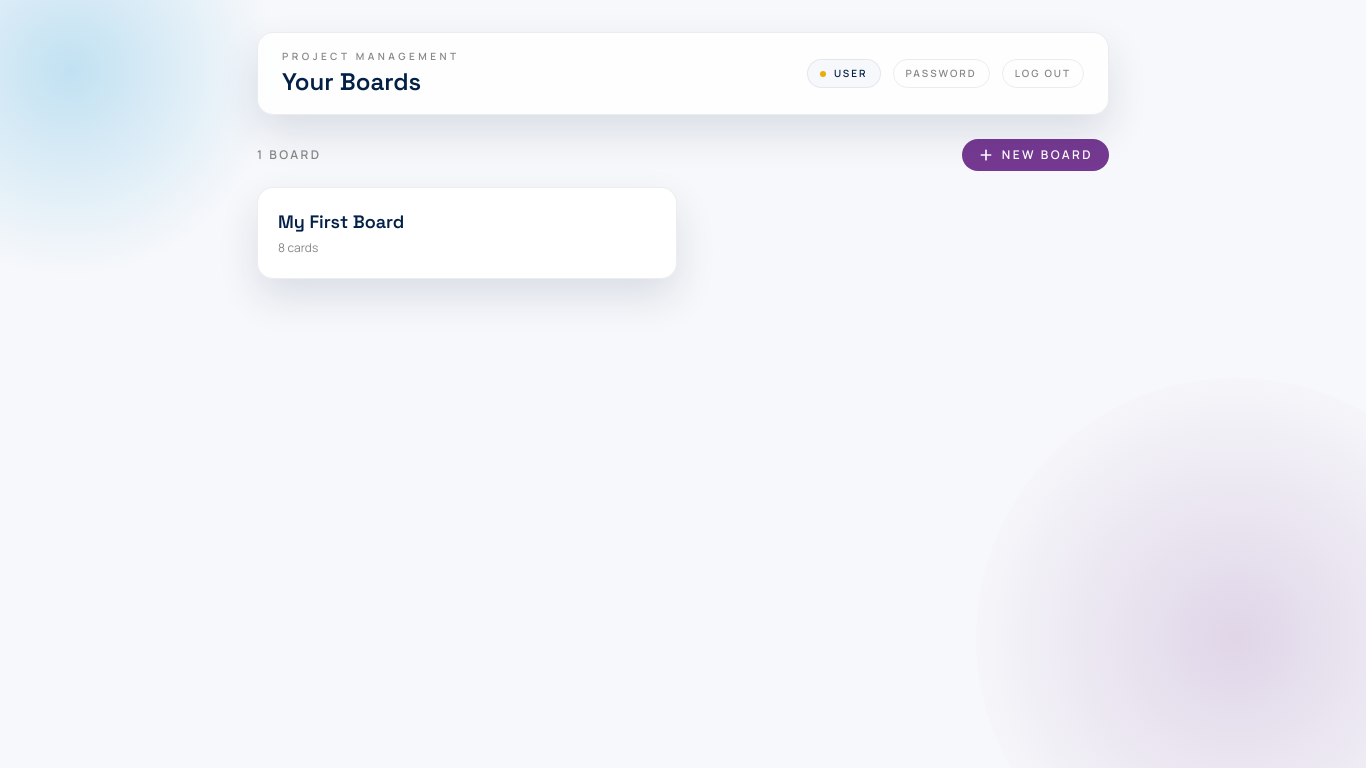
Test case: BoardSelector › changes password successfully
Expected: the list with test id "boards-list" is shown, [257,187,677,279]
Click the button with test id "change-password-button" at (941, 74), box [892,59,990,88]
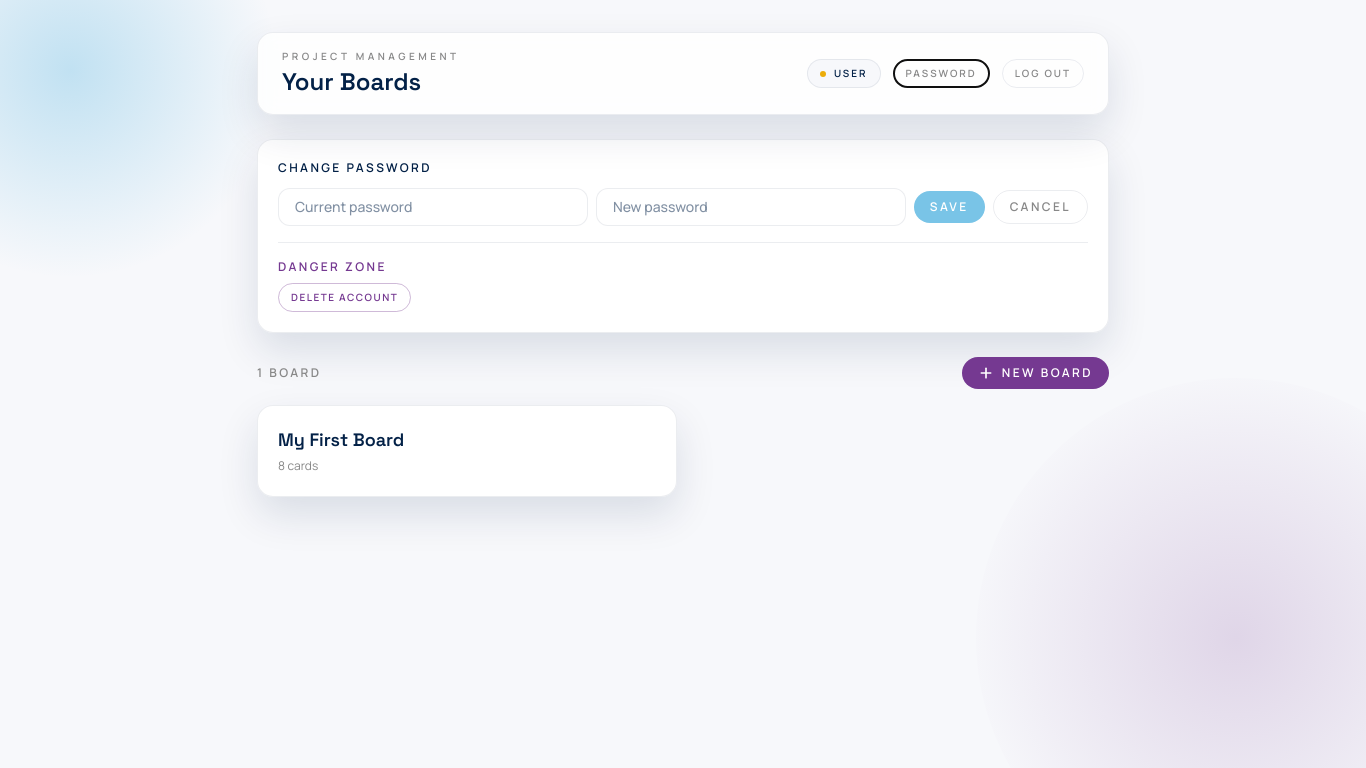
Now the element with test id "password-form" is shown, box [257,139,1109,333]
Type "password" into the password field with test id "current-password-input" at (433, 207), box [278,188,588,226]
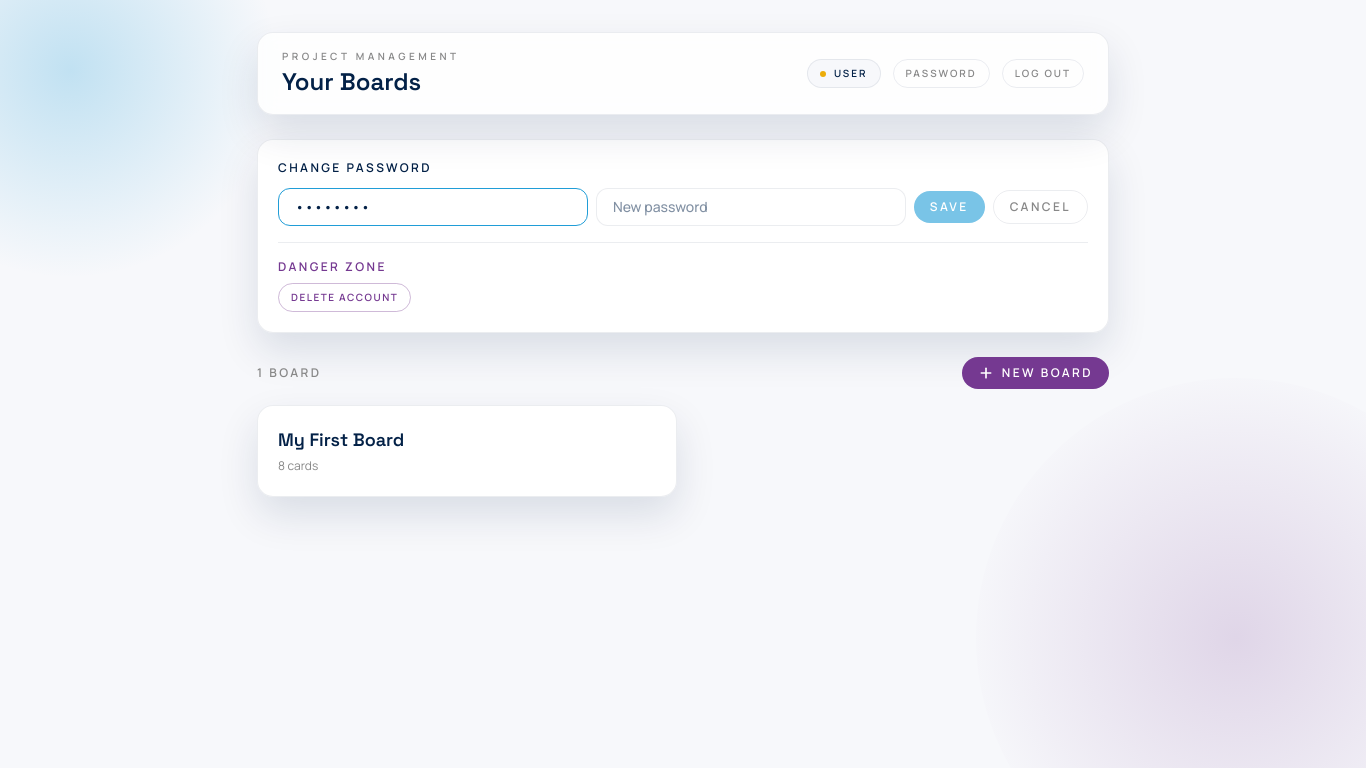
Type "newpass99" into the password field with test id "new-password-input" at (751, 207), box [596,188,906,226]
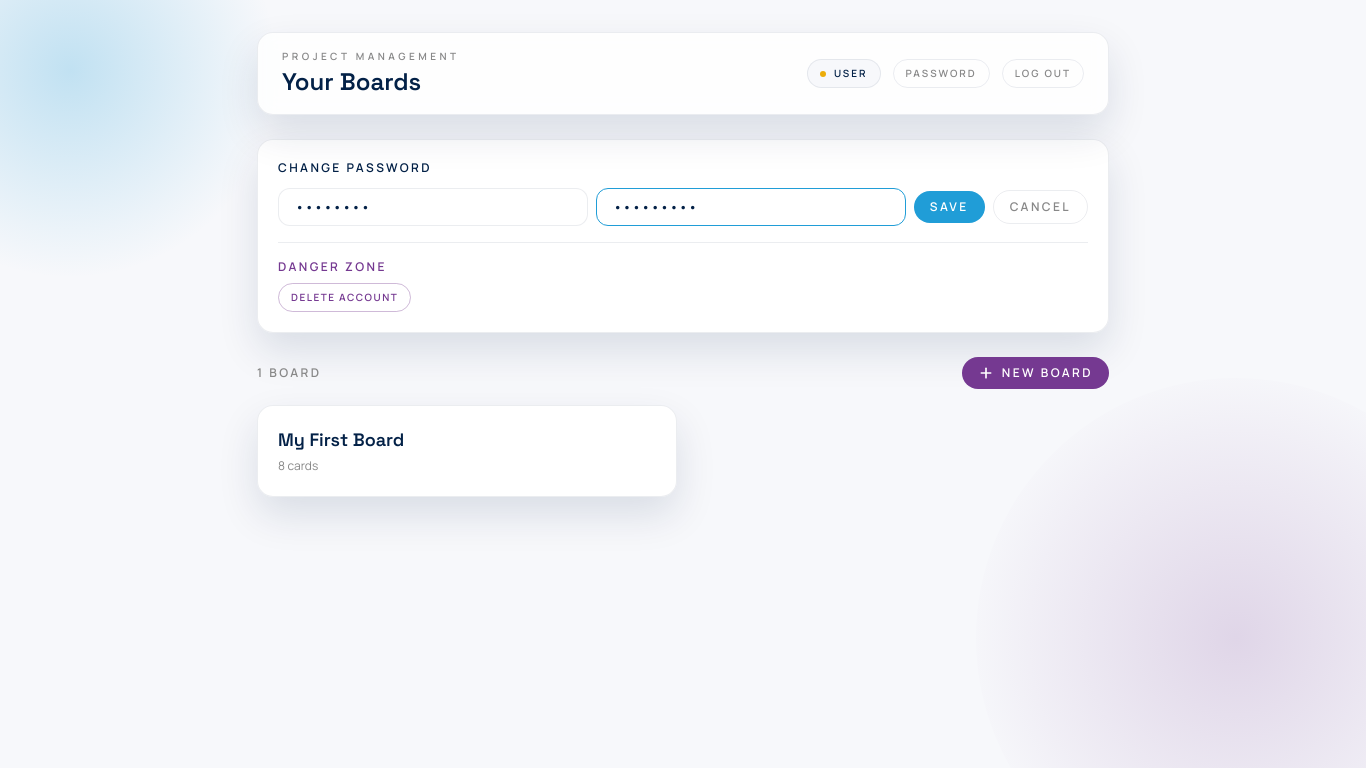
Click the button with test id "change-password-submit" at (949, 207), box [914,191,985,223]
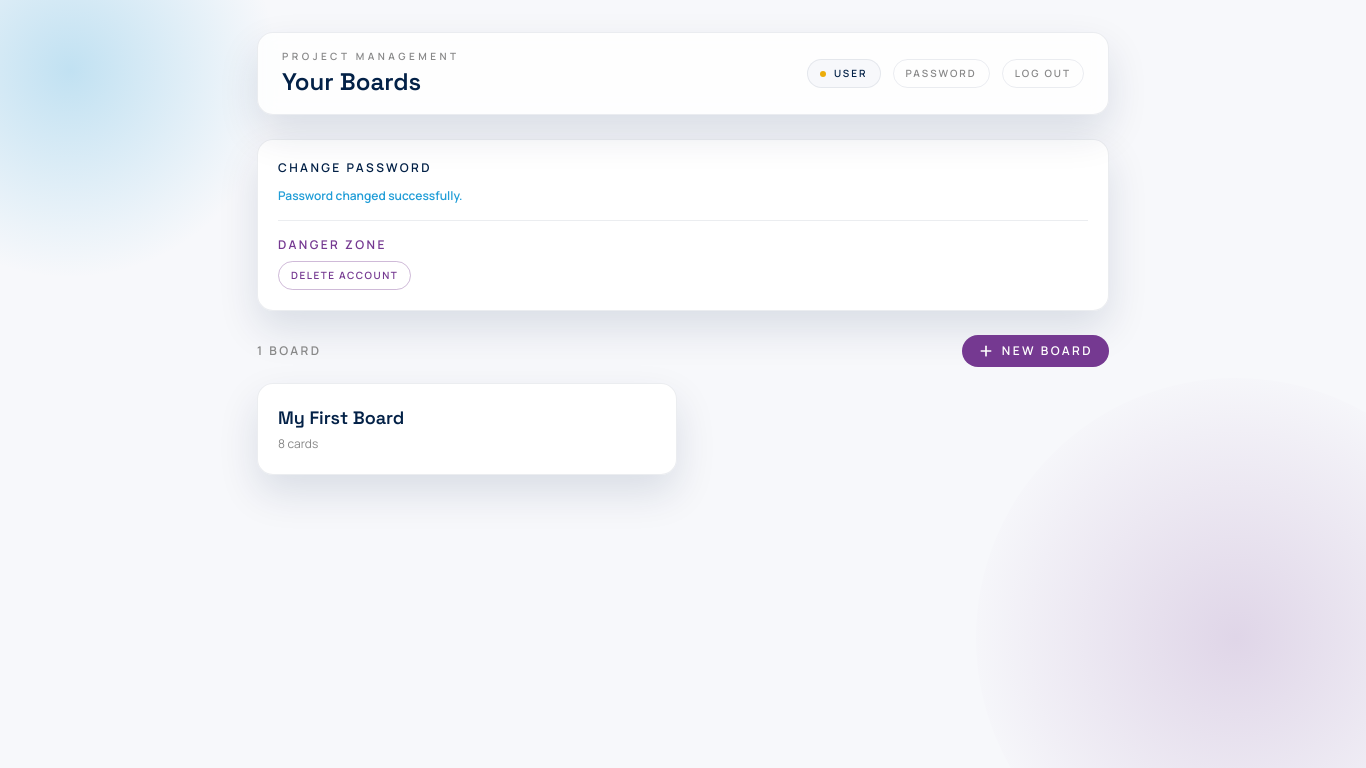
Now the text "Password changed successfully." is shown, box [278,187,462,204]
